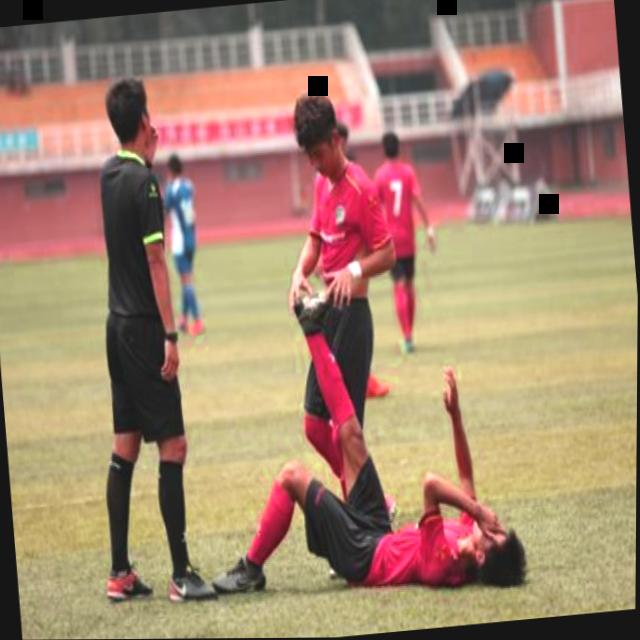Fall-Detected: (184, 295, 547, 610)
